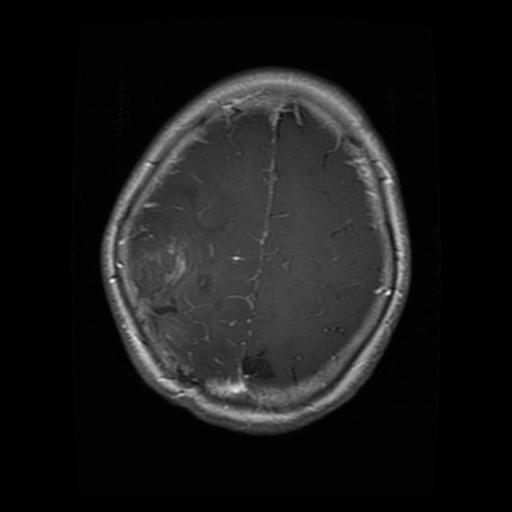Gliomia_tumour: (130, 216, 204, 316)
